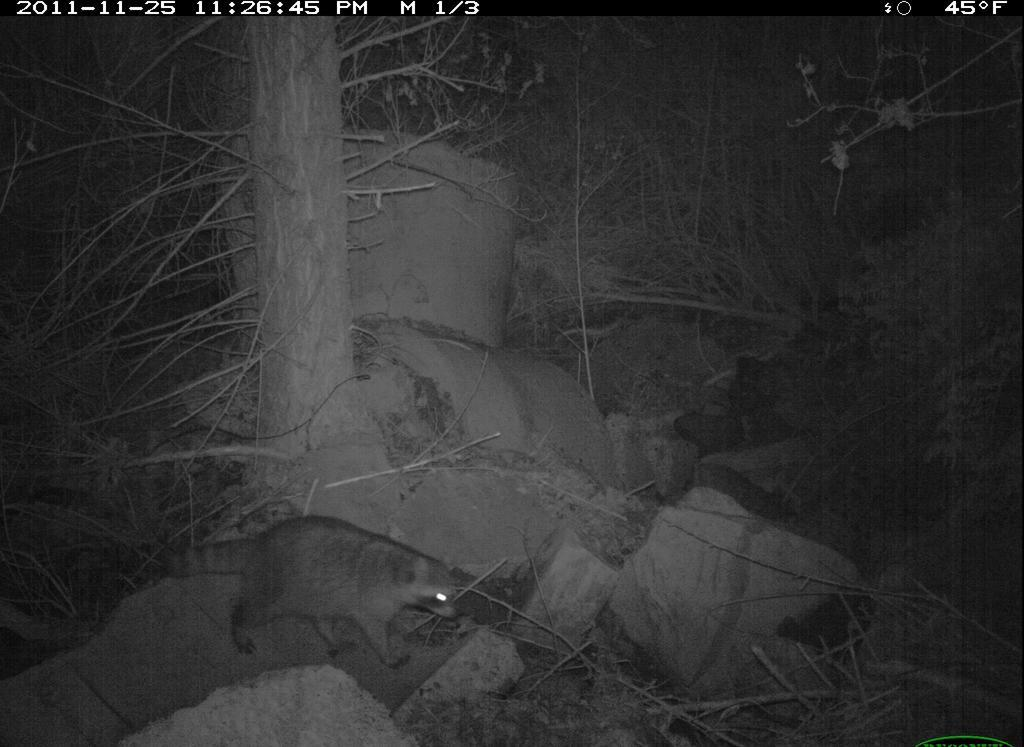raccoon: (135, 509, 489, 667)
